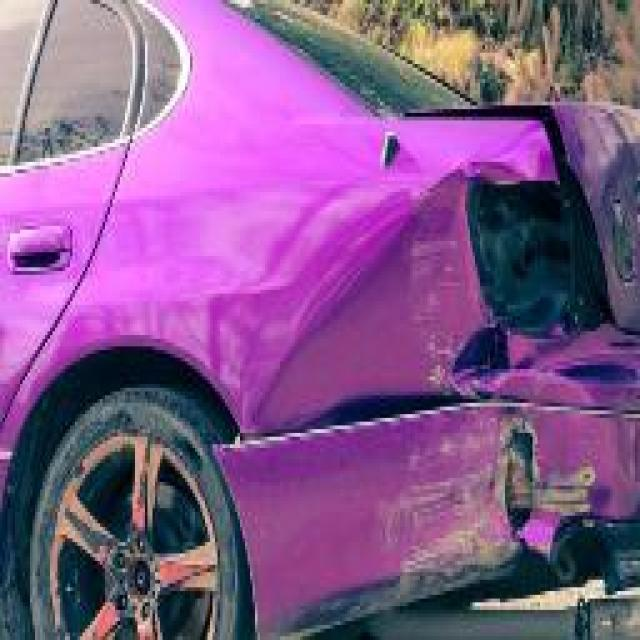Bumper: (220, 410, 640, 587)
Dickey: (568, 105, 640, 181)
Fender: (162, 128, 478, 388)
Light: (468, 184, 598, 331)
